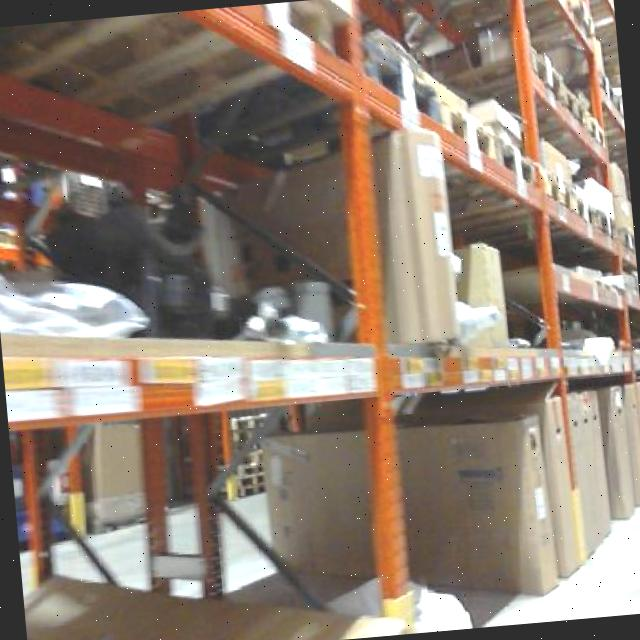pallet: (425, 80, 501, 172), (486, 118, 544, 198), (563, 80, 614, 162), (532, 160, 586, 227), (525, 39, 571, 114), (576, 185, 618, 251)
